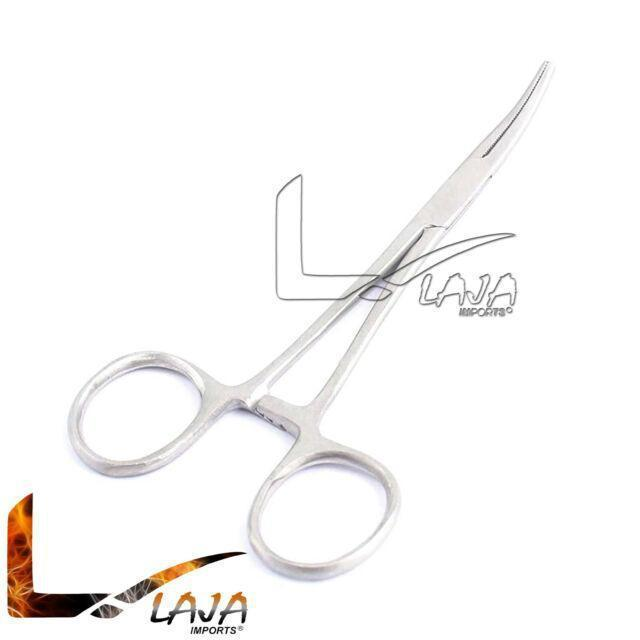Hemostat: (63, 55, 565, 586)
